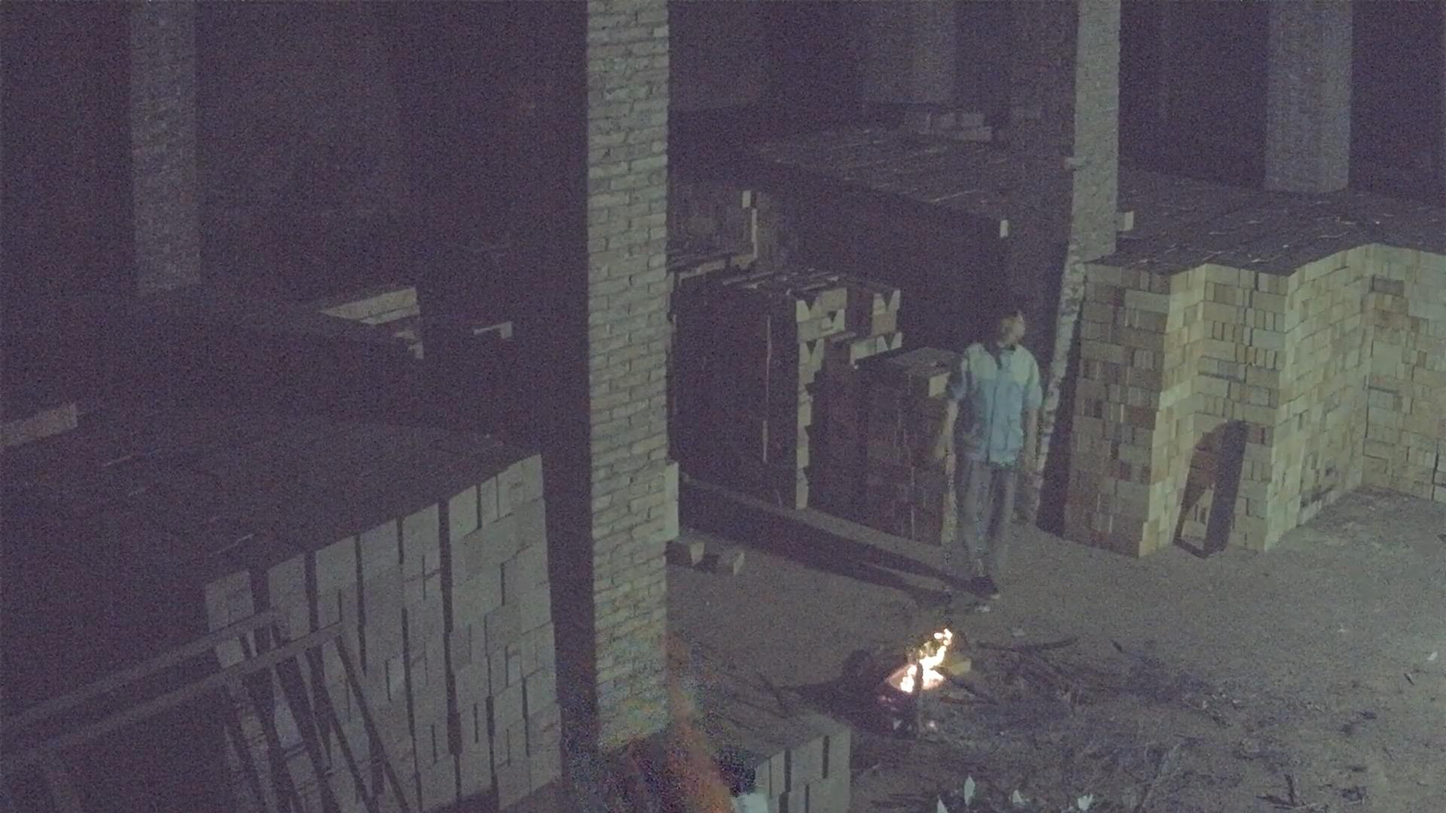fire: (887, 626, 954, 693)
